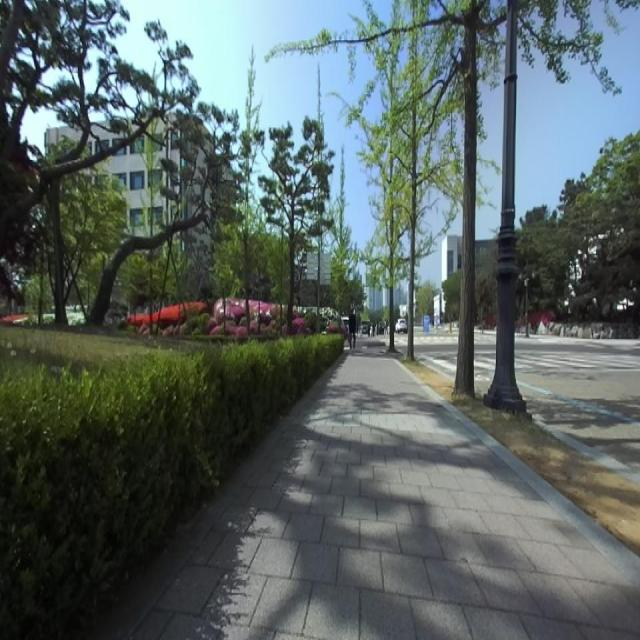sidewalk: (86, 351, 640, 640)
